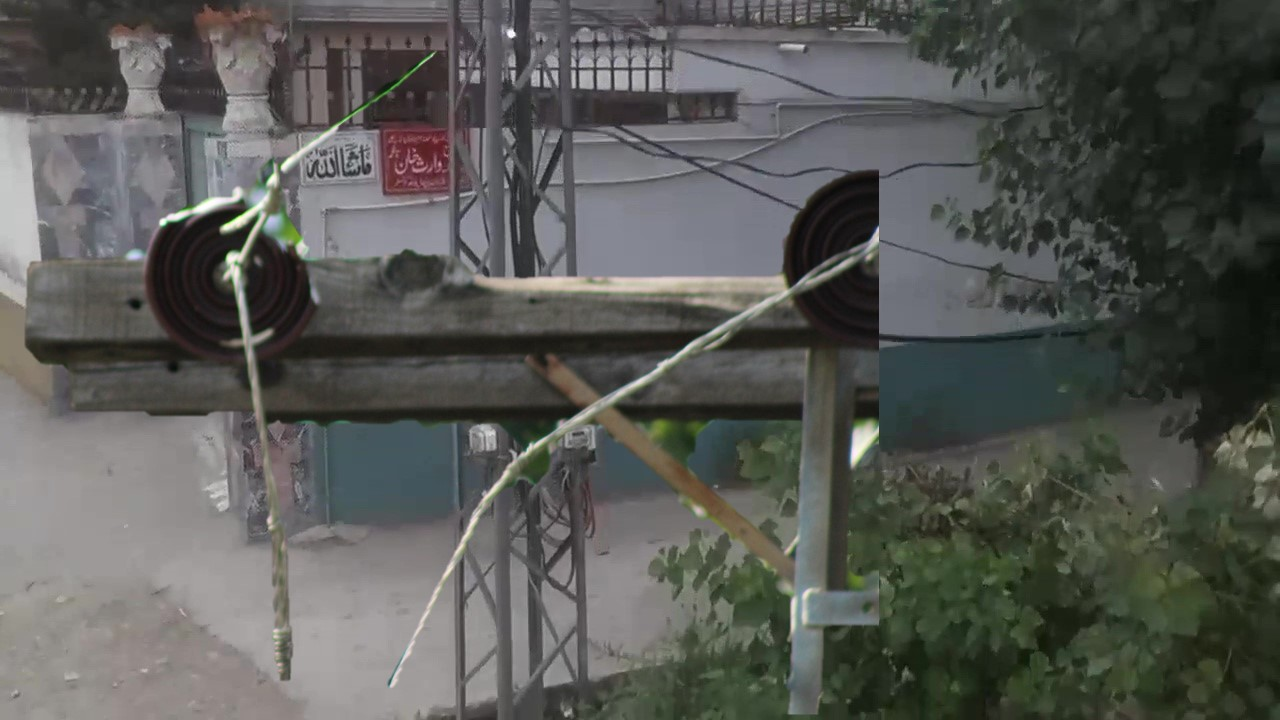defect_disc: (140, 185, 324, 362)
